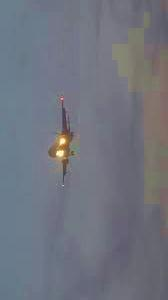Plane: (46, 92, 85, 192)
